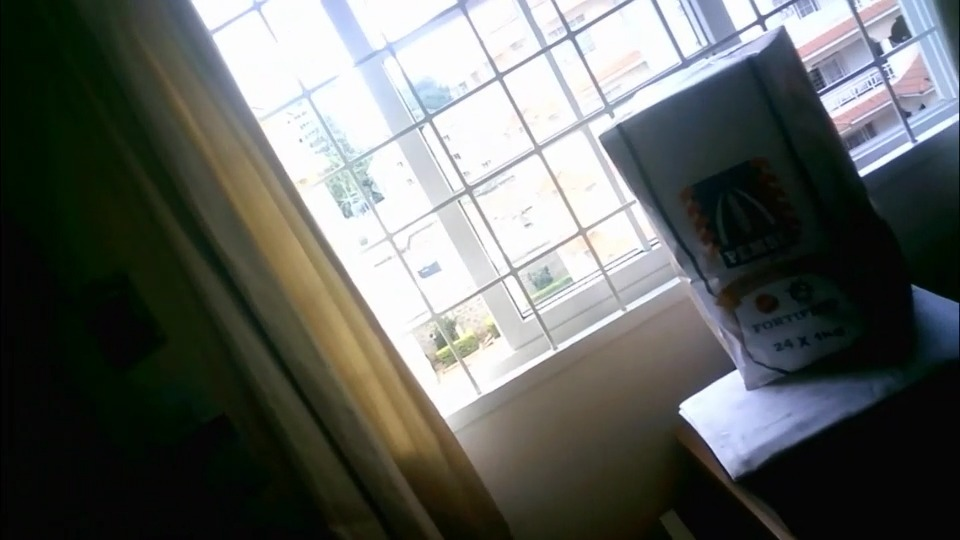maize_flour_green_label: (598, 27, 902, 394)
